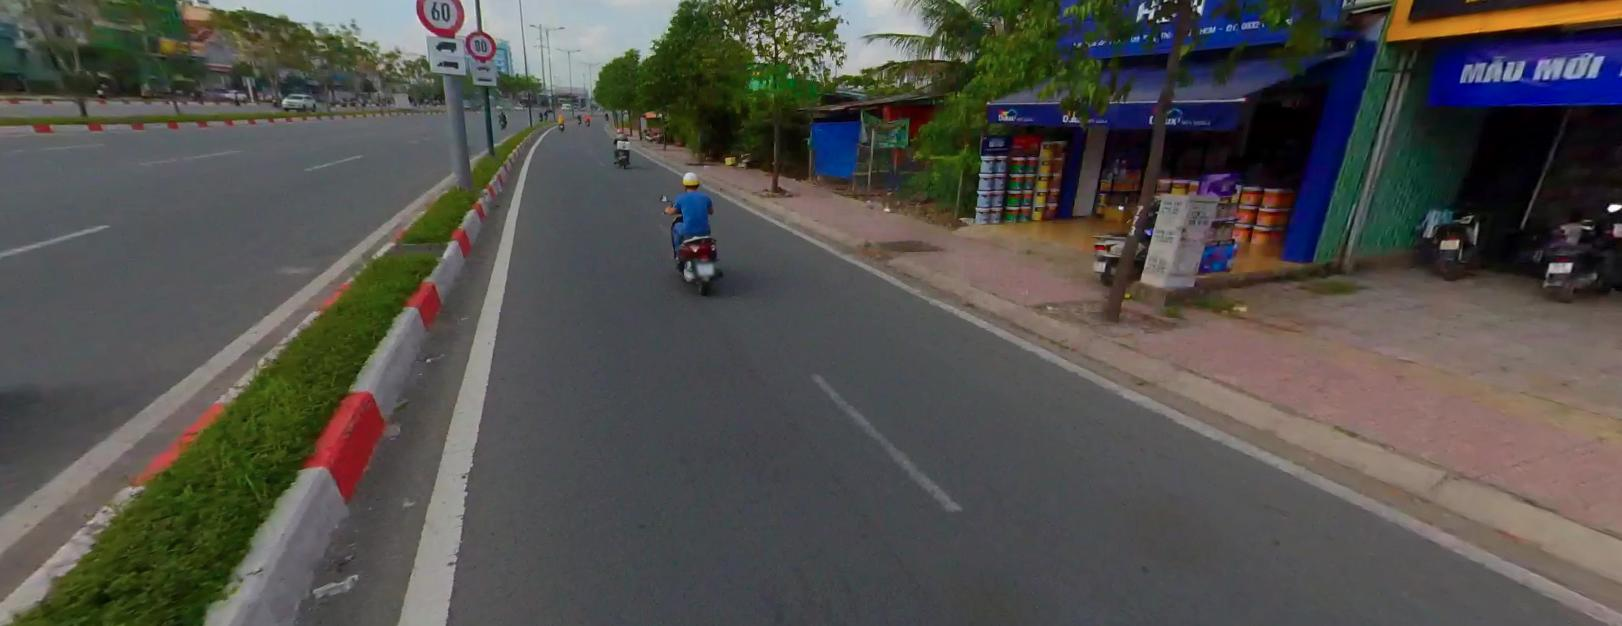Gioi han toc do: (415, 0, 464, 35), (465, 28, 498, 59)
